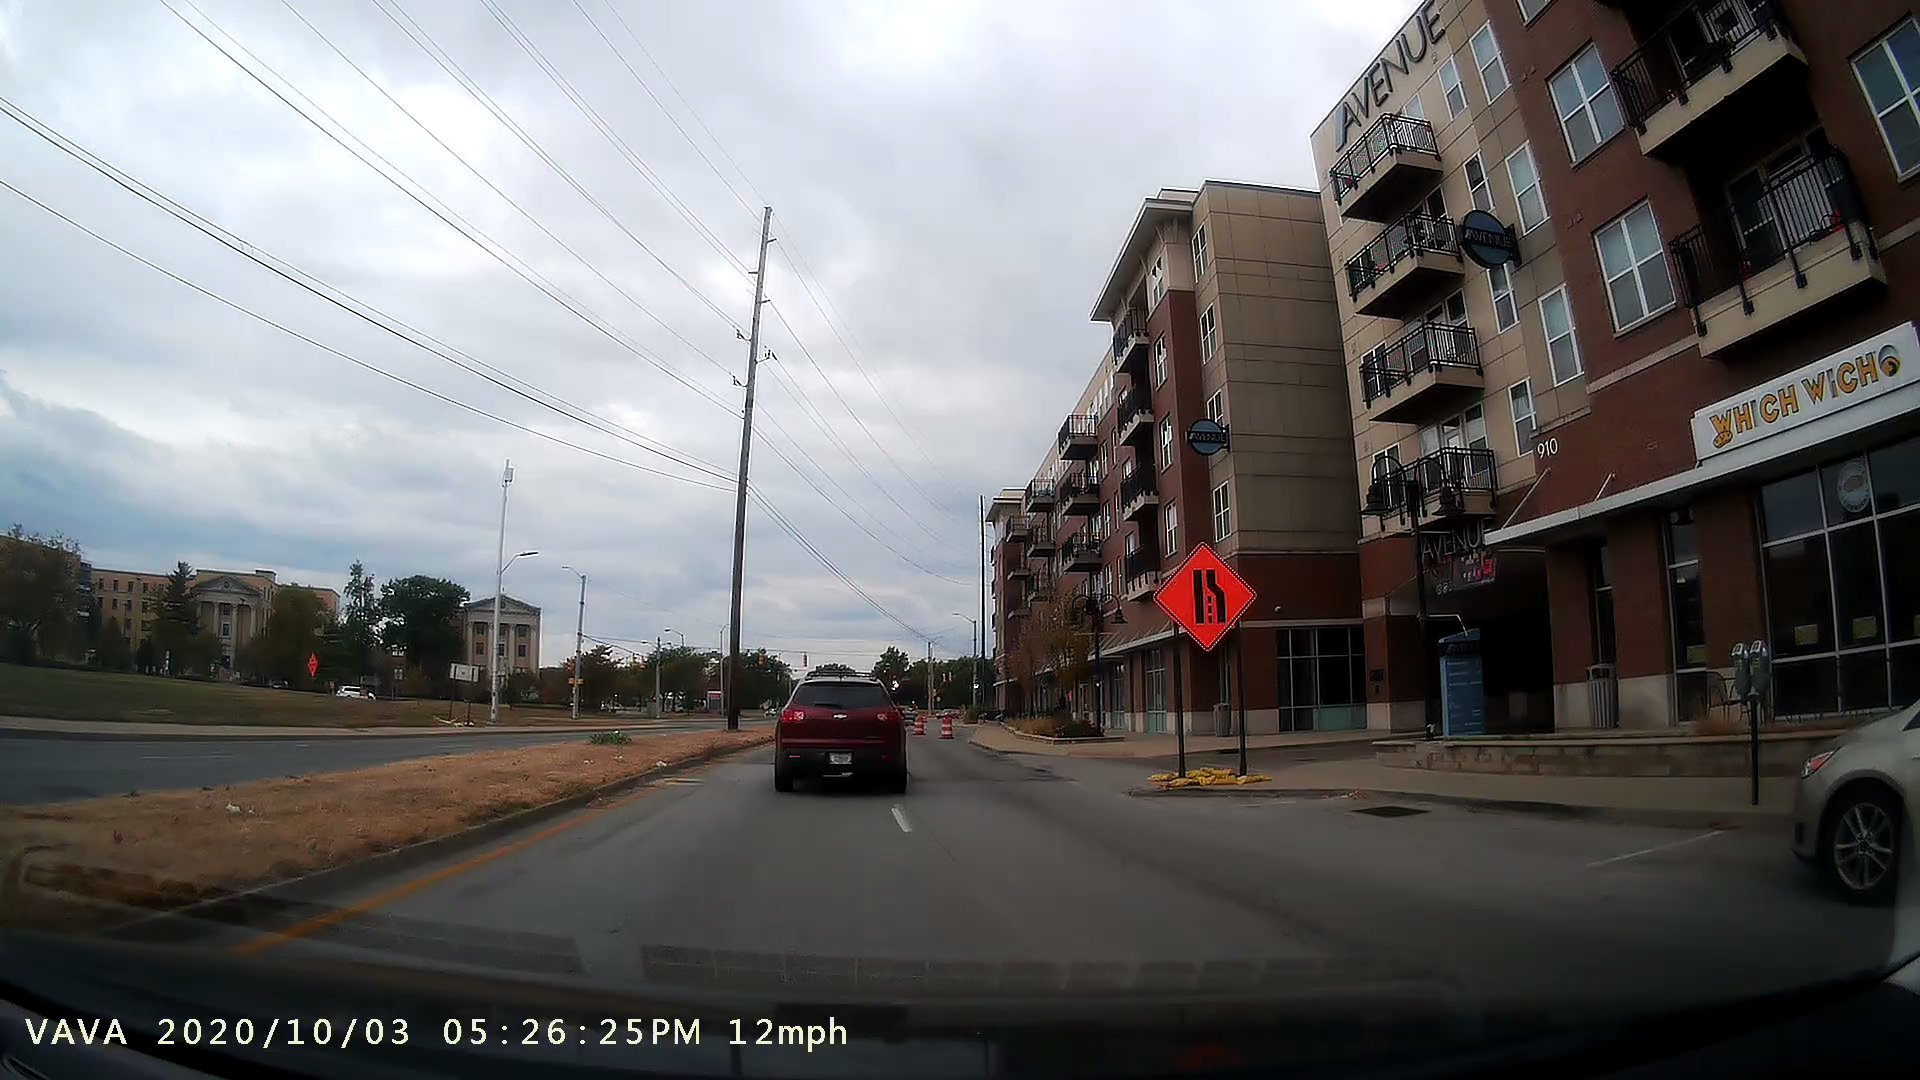ttcs_right_lane_reduction: (1149, 537, 1273, 789)
